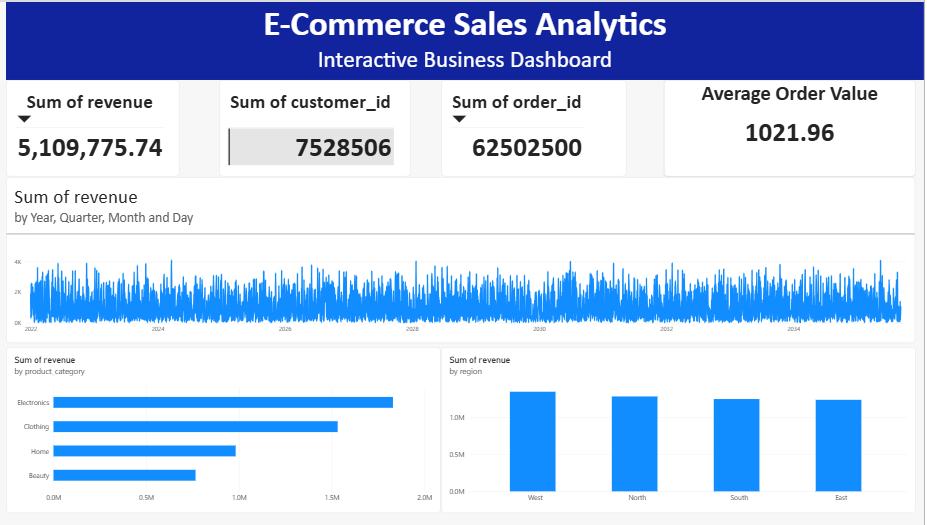

The dashboard page shown, as its layout file describes it:
{"tool":"powerbi","page":{"name":"Page 1","canvas":[1920,1080],"ordinal":0},"visuals":[{"type":"tableEx","fields":{"Values":["Sum(ecommerce_sales_analytics_5000.revenue)"]},"box":[25.2,161.3,357.8,199.1],"z":0},{"type":"textbox","box":[24.8,0,1895.2,161],"z":1},{"type":"tableEx","fields":{"Values":["Sum(ecommerce_sales_analytics_5000.order_id)"]},"box":[922.2,161.3,383,199.1],"z":2},{"type":"tableEx","fields":{"Values":["Sum(ecommerce_sales_analytics_5000.customer_id)"]},"box":[463.6,161.3,395.6,199.1],"z":3},{"type":"textbox","box":[1383.3,161.3,519.1,199.1],"z":4},{"type":"lineChart","fields":{"Category":["ecommerce_sales_analytics_5000.order_date.Variation.Date Hierarchy.Year","ecommerce_sales_analytics_5000.order_date.Variation.Date Hierarchy.Quarter","ecommerce_sales_analytics_5000.order_date.Variation.Date Hierarchy.Month","ecommerce_sales_analytics_5000.order_date.Variation.Date Hierarchy.Day"],"Y":["Sum(ecommerce_sales_analytics_5000.revenue)"]},"box":[25.2,360.3,1877.2,342.7],"z":5},{"type":"clusteredBarChart","fields":{"Category":["ecommerce_sales_analytics_5000.product_category"],"Y":["Sum(ecommerce_sales_analytics_5000.revenue)"]},"box":[25.2,713.1,897,342.7],"z":6},{"type":"clusteredColumnChart","fields":{"Category":["ecommerce_sales_analytics_5000.region"],"Y":["Sum(ecommerce_sales_analytics_5000.revenue)"]},"box":[922,713,980,343],"z":7}]}

Visuals, with their boxes in screenshot pixels (x1, y1, x2, y2), scaled from the page's 1920x1080 canvas onto the 927x525 screenshot:
tableEx - Sum(ecommerce_sales_analytics_5000.revenue): 12/78/185/175
textbox: 12/0/926/78
tableEx - Sum(ecommerce_sales_analytics_5000.order_id): 445/78/630/175
tableEx - Sum(ecommerce_sales_analytics_5000.customer_id): 224/78/415/175
textbox: 668/78/919/175
lineChart - ecommerce_sales_analytics_5000.order_date.Variation.Date Hierarchy.Year x ecommerce_sales_analytics_5000.order_date.Variation.Date Hierarchy.Quarter: 12/175/919/342
clusteredBarChart - ecommerce_sales_analytics_5000.product_category x Sum(ecommerce_sales_analytics_5000.revenue): 12/347/445/513
clusteredColumnChart - ecommerce_sales_analytics_5000.region x Sum(ecommerce_sales_analytics_5000.revenue): 445/347/918/513
